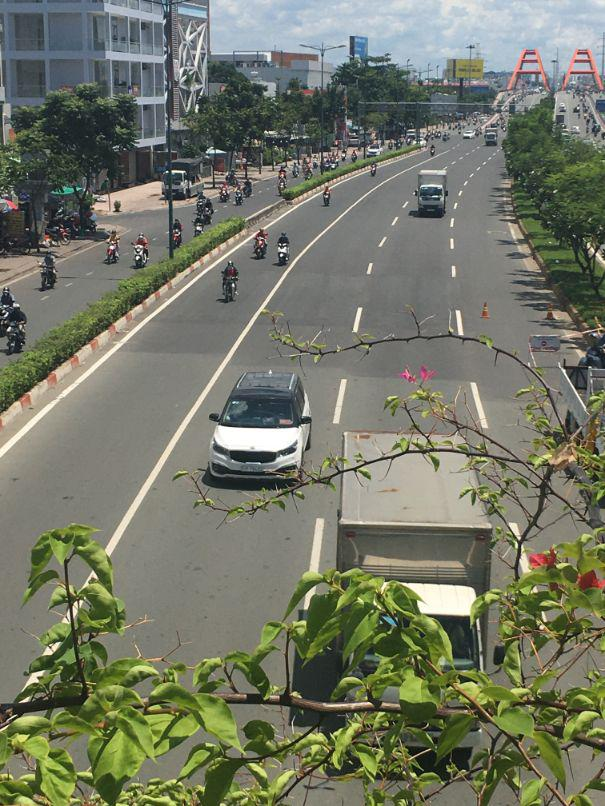car: (209, 366, 314, 487), (485, 130, 498, 144)
motorbike: (1, 308, 29, 353), (39, 252, 59, 294), (220, 272, 238, 303), (275, 232, 289, 264), (253, 232, 267, 259), (106, 242, 119, 265)
truck: (339, 430, 501, 760), (164, 155, 206, 198), (417, 169, 448, 217)
